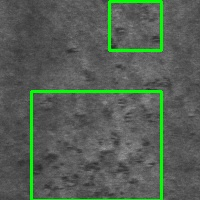rolled-in_scale: (31, 91, 161, 200), (109, 1, 161, 50)
